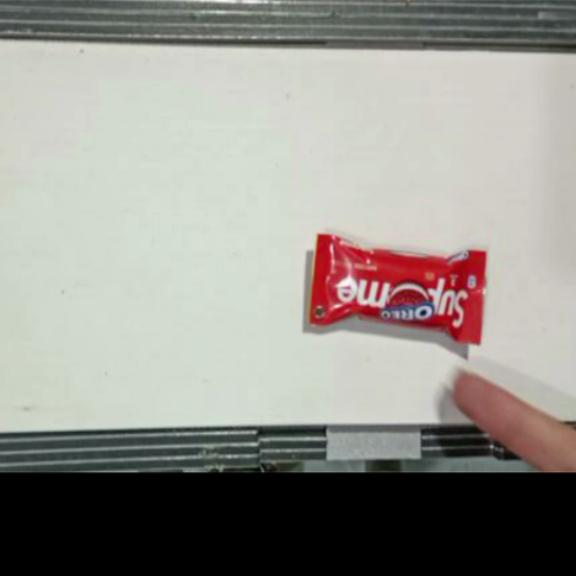Plastik: (308, 234, 486, 346)
